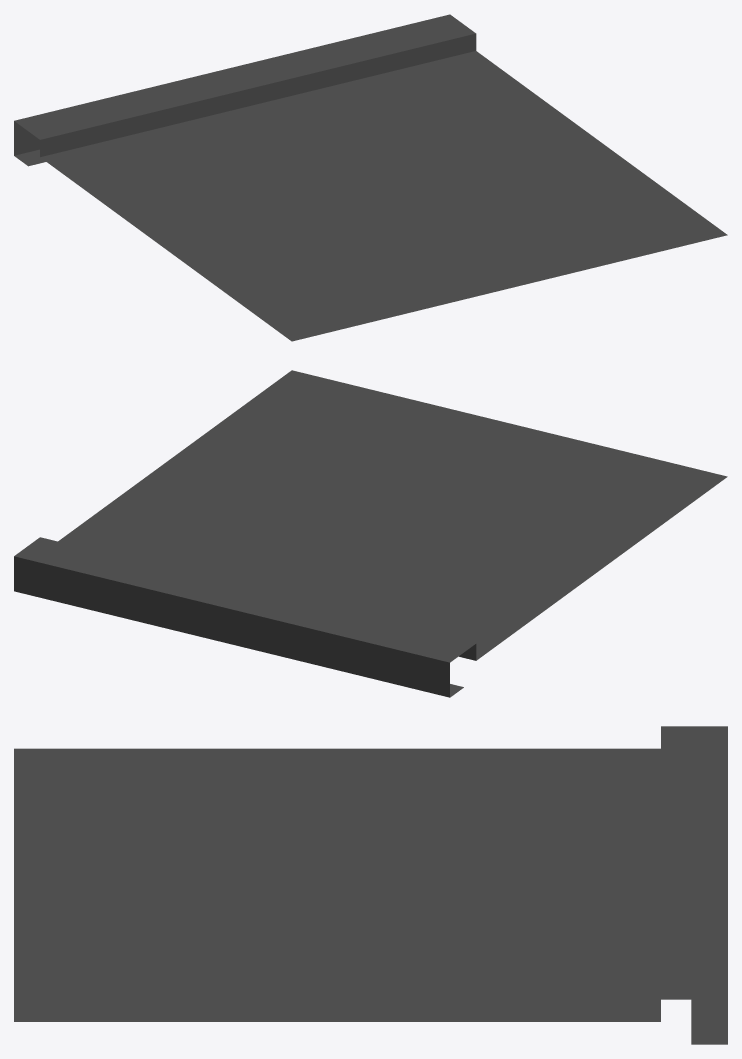
Rendered from Roof_Flat_Straight_01.fbx.
3 renders of one model, top to bottom at view 1: azimuth 30°, elevation 25°; view 2: azimuth 150°, elevation 25°; view 3: azimuth 270°, elevation 25°, orthographic. The views are drawn at different scales.
Parts seen in each view (by area): view 1: SM_Bld_House_Roof_FlatLip_Corner_01.001; view 2: SM_Bld_House_Roof_FlatLip_Corner_01.001; view 3: SM_Bld_House_Roof_FlatLip_Corner_01.001.
Part boxes in pixels (bbox=[...]): SM_Bld_House_Roof_FlatLip_Corner_01.001: bbox=[14, 14, 727, 341]; SM_Bld_House_Roof_FlatLip_Corner_01.001: bbox=[14, 370, 727, 697]; SM_Bld_House_Roof_FlatLip_Corner_01.001: bbox=[14, 726, 727, 1044].
Size of the model in its own units: 258 by 19.81 by 285.
